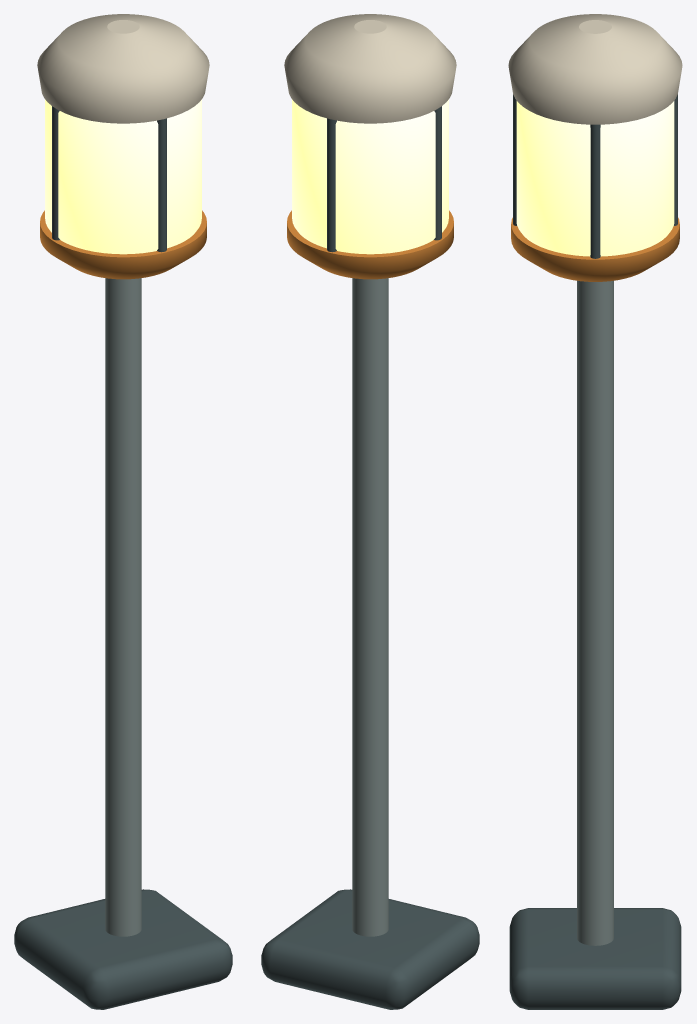
File: outdoor-lantern-160.glb
3 views of the same model, side by side, from view 1: azimuth 30°, elevation 25°; view 2: azimuth 150°, elevation 25°; view 3: azimuth 270°, elevation 25° (orthographic).
Parts seen in each view (by area): view 1: outdoor-lantern-160 / 05 • brushed titanium, outdoor-lantern-160 / 09 • warm diffuser, outdoor-lantern-160 / 06 • dark anodized frame, outdoor-lantern-160 / 01 • warm porcelain paint, outdoor-lantern-160 / 03 • ochre enamel; view 2: outdoor-lantern-160 / 05 • brushed titanium, outdoor-lantern-160 / 09 • warm diffuser, outdoor-lantern-160 / 06 • dark anodized frame, outdoor-lantern-160 / 01 • warm porcelain paint, outdoor-lantern-160 / 03 • ochre enamel; view 3: outdoor-lantern-160 / 05 • brushed titanium, outdoor-lantern-160 / 09 • warm diffuser, outdoor-lantern-160 / 06 • dark anodized frame, outdoor-lantern-160 / 01 • warm porcelain paint, outdoor-lantern-160 / 03 • ochre enamel.
Part boxes in pixels (x1,y1,x2,y2): outdoor-lantern-160 / 05 • brushed titanium: (105, 278, 141, 936); outdoor-lantern-160 / 09 • warm diffuser: (45, 99, 201, 254); outdoor-lantern-160 / 06 • dark anodized frame: (14, 106, 232, 1009); outdoor-lantern-160 / 01 • warm porcelain paint: (37, 14, 209, 123); outdoor-lantern-160 / 03 • ochre enamel: (40, 210, 206, 279); outdoor-lantern-160 / 05 • brushed titanium: (352, 278, 388, 936); outdoor-lantern-160 / 09 • warm diffuser: (292, 99, 448, 254); outdoor-lantern-160 / 06 • dark anodized frame: (261, 106, 479, 1009); outdoor-lantern-160 / 01 • warm porcelain paint: (284, 14, 456, 123); outdoor-lantern-160 / 03 • ochre enamel: (287, 210, 453, 279); outdoor-lantern-160 / 05 • brushed titanium: (577, 280, 613, 945); outdoor-lantern-160 / 09 • warm diffuser: (516, 101, 674, 256); outdoor-lantern-160 / 06 • dark anodized frame: (509, 94, 681, 1009); outdoor-lantern-160 / 01 • warm porcelain paint: (508, 14, 682, 124); outdoor-lantern-160 / 03 • ochre enamel: (511, 217, 679, 281).
Bounding box in the file's own units: 0.264 × 1.6 × 0.264.
